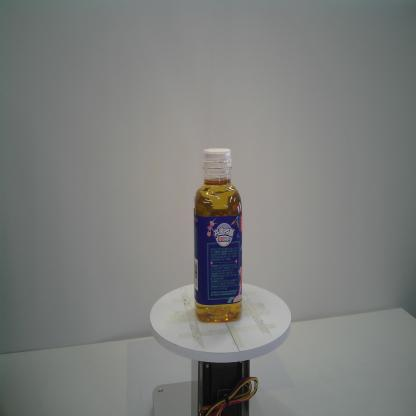Drink: (192, 147, 244, 324)
